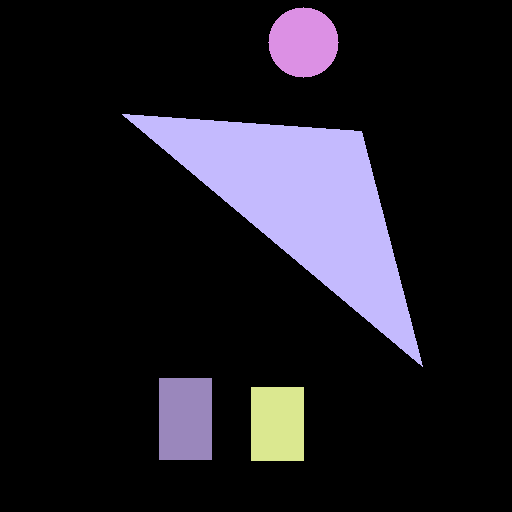circle: (268, 7, 338, 77)
rectangle: (159, 378, 211, 459), (251, 387, 303, 460)
triangle: (122, 114, 422, 366)
